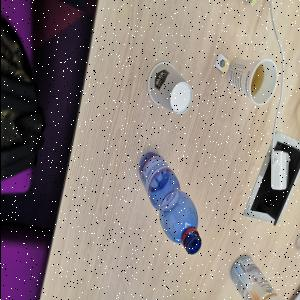Cup: (227, 58, 279, 108), (147, 62, 194, 116)
Plastic-bottle: (138, 153, 202, 257)
